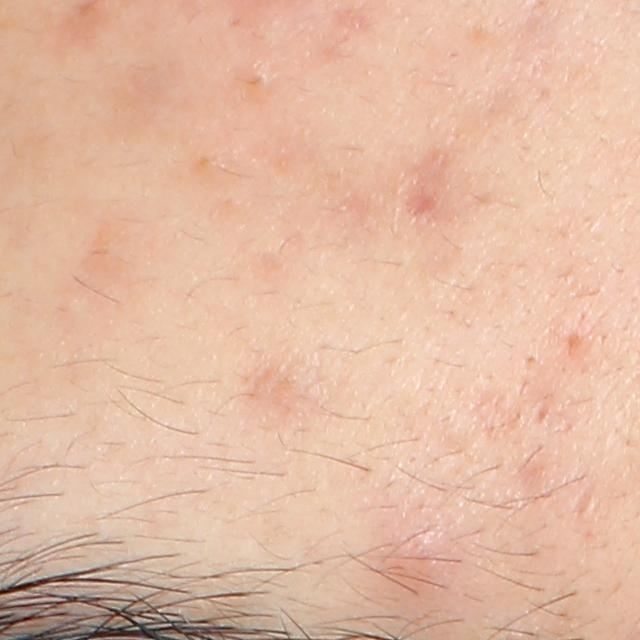atrophic_scar: (571, 475, 600, 520), (527, 397, 554, 428)
comedo: (239, 57, 281, 97)
papule: (375, 505, 468, 602)
